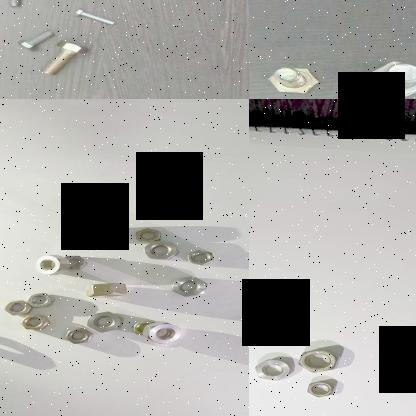Bolts: (364, 57, 416, 99), (261, 61, 317, 96), (42, 38, 90, 75), (70, 6, 119, 27), (16, 28, 60, 50), (0, 0, 29, 8)
NUTS: (294, 345, 342, 373), (249, 354, 295, 382), (142, 320, 186, 346), (168, 273, 212, 297), (138, 239, 184, 261), (83, 279, 133, 299), (86, 310, 126, 334), (129, 223, 166, 247), (34, 254, 70, 276), (302, 377, 340, 397), (61, 224, 102, 242), (130, 314, 160, 338), (188, 245, 216, 268), (18, 313, 52, 331), (64, 325, 95, 343), (2, 299, 32, 317), (64, 252, 92, 270), (24, 292, 53, 308)
